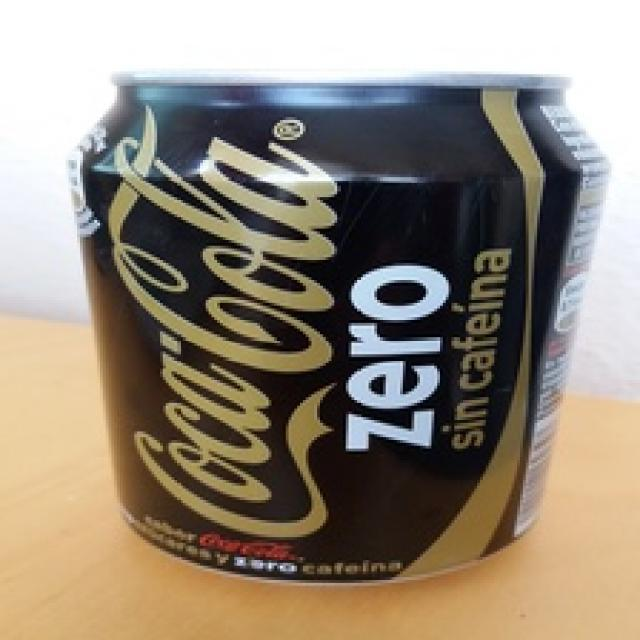recyclable: (69, 72, 609, 585)
